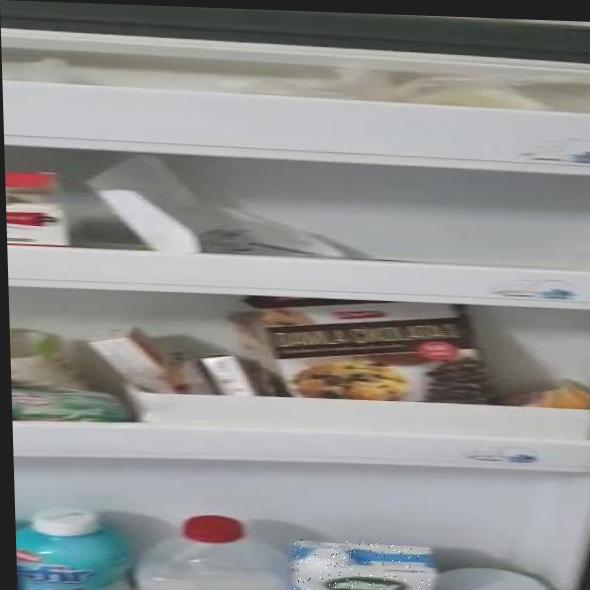milk: (291, 539, 430, 590)
